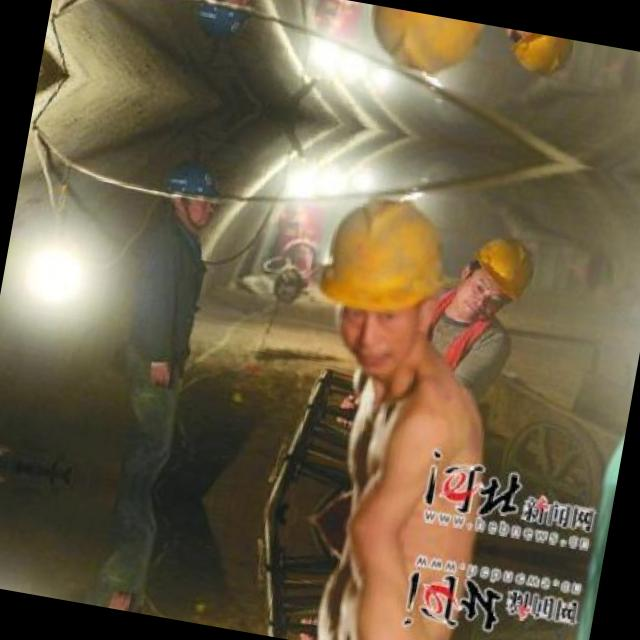helmet: (304, 188, 454, 380), (357, 4, 488, 80), (449, 224, 540, 330), (156, 153, 227, 230), (492, 27, 576, 84), (187, 0, 259, 46)
